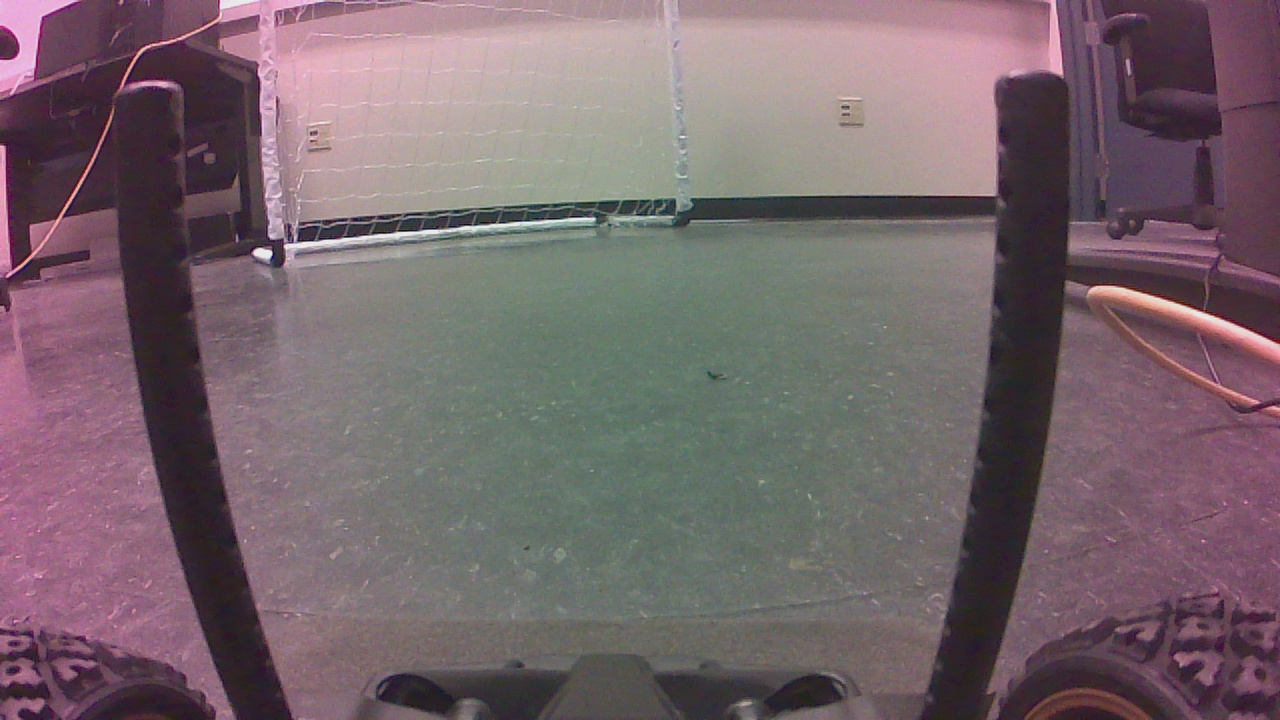goal: (252, 5, 702, 274)
